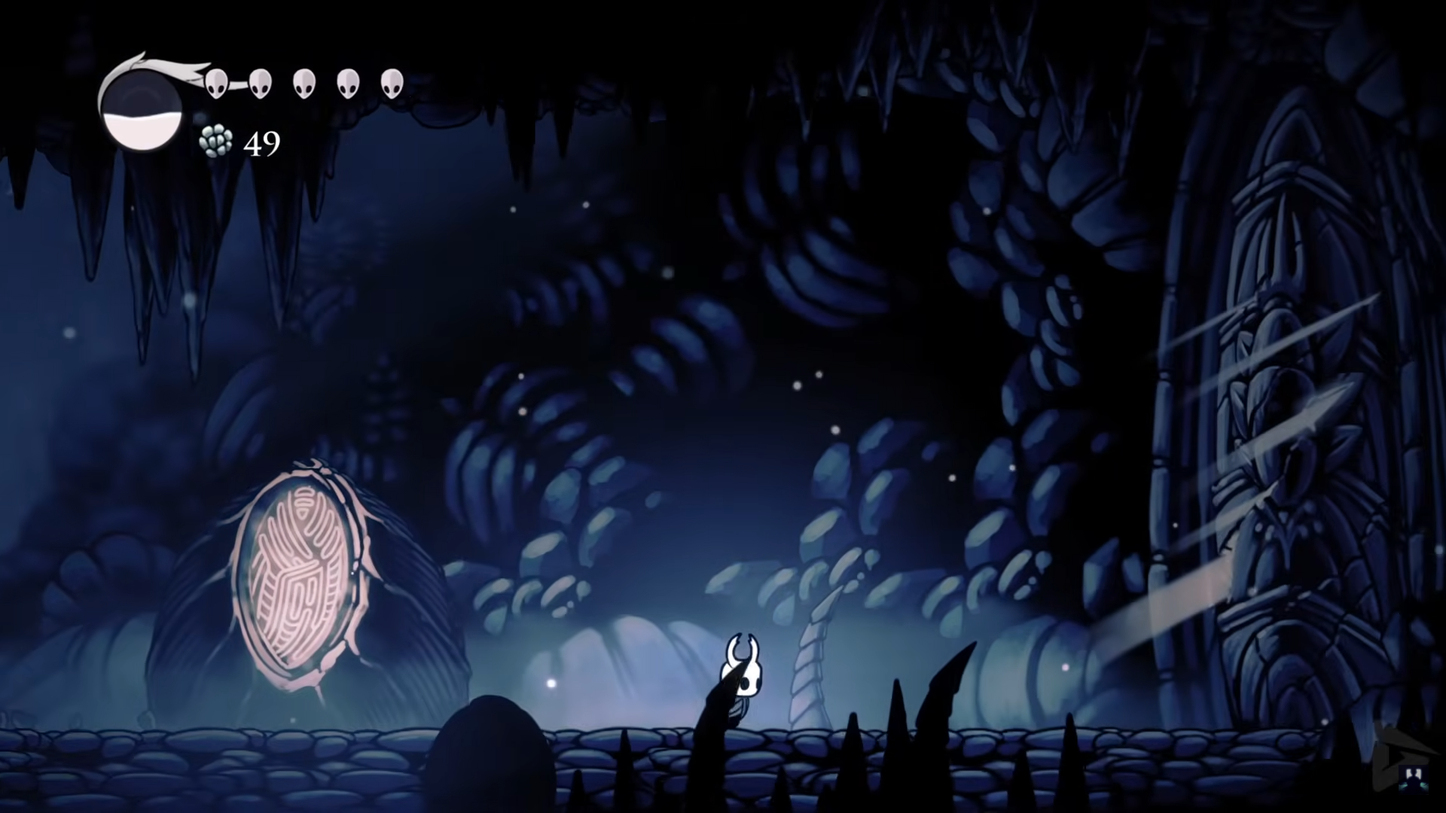HK: (713, 628, 766, 731)
